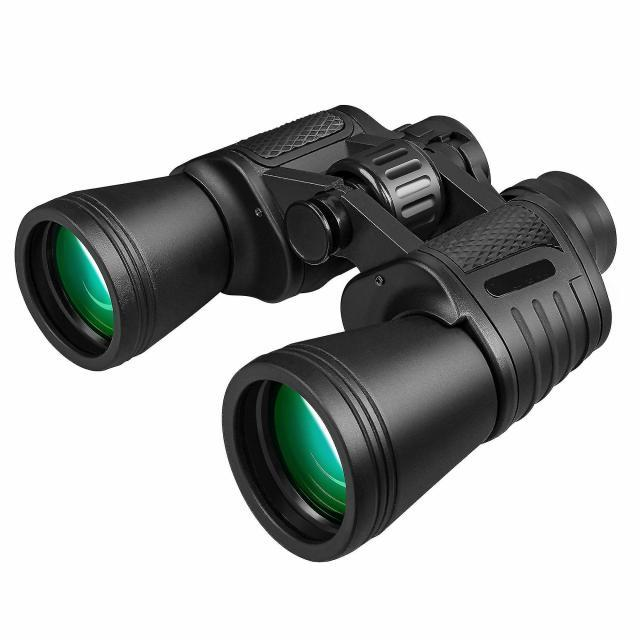Binocular: (7, 86, 627, 570)
